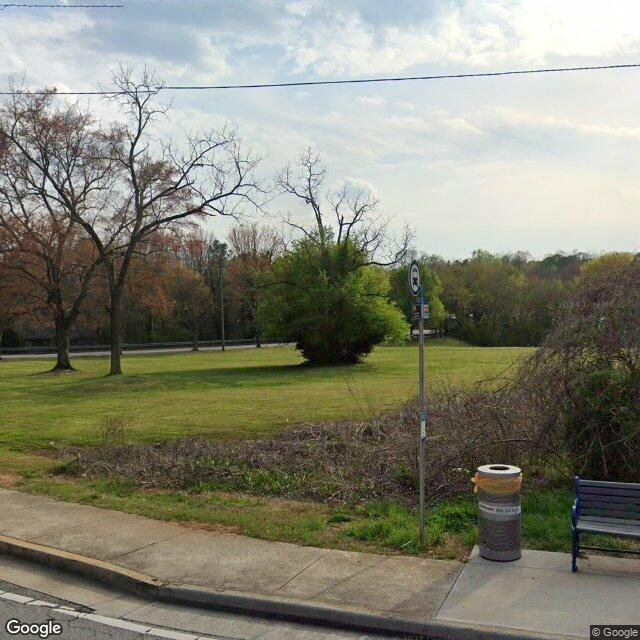seating: (568, 474, 640, 580)
trash_can: (474, 462, 523, 564)
